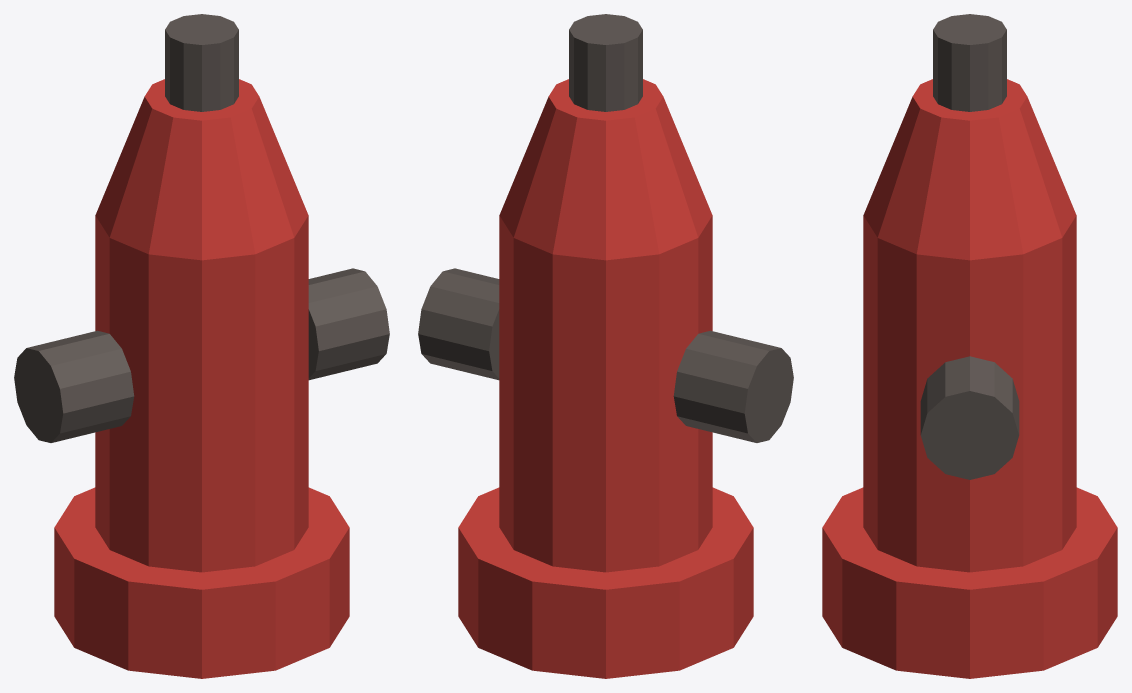
Rendered from fire_hydrant.glb.
3 views of the same model, side by side, from view 1: azimuth 30°, elevation 25°; view 2: azimuth 150°, elevation 25°; view 3: azimuth 270°, elevation 25° (orthographic).
Visible parts, largest first — view 1: fire_hydrant; view 2: fire_hydrant; view 3: fire_hydrant.
Boxes of the visible parts, box(x1,y1,x2,y2) form: fire_hydrant: box(14, 14, 389, 678); fire_hydrant: box(418, 14, 793, 678); fire_hydrant: box(822, 14, 1117, 678).
Bounding box in the file's own units: 0.46 × 0.79 × 0.36.
